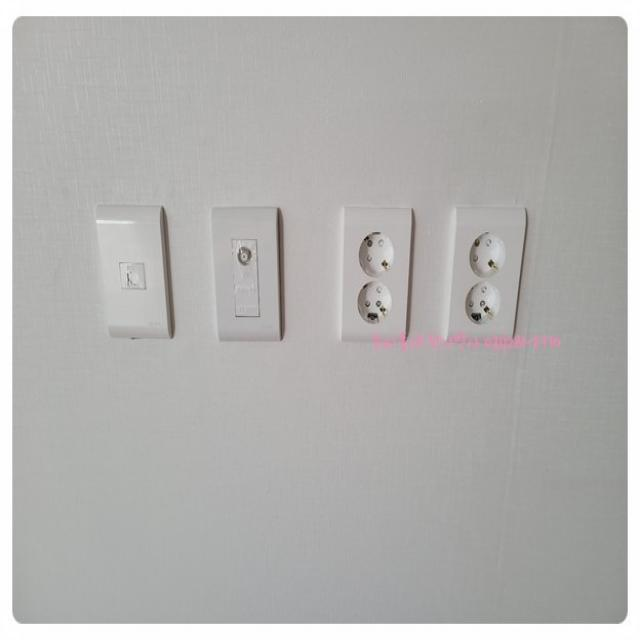typeb: (445, 178, 554, 398), (328, 170, 411, 393)
